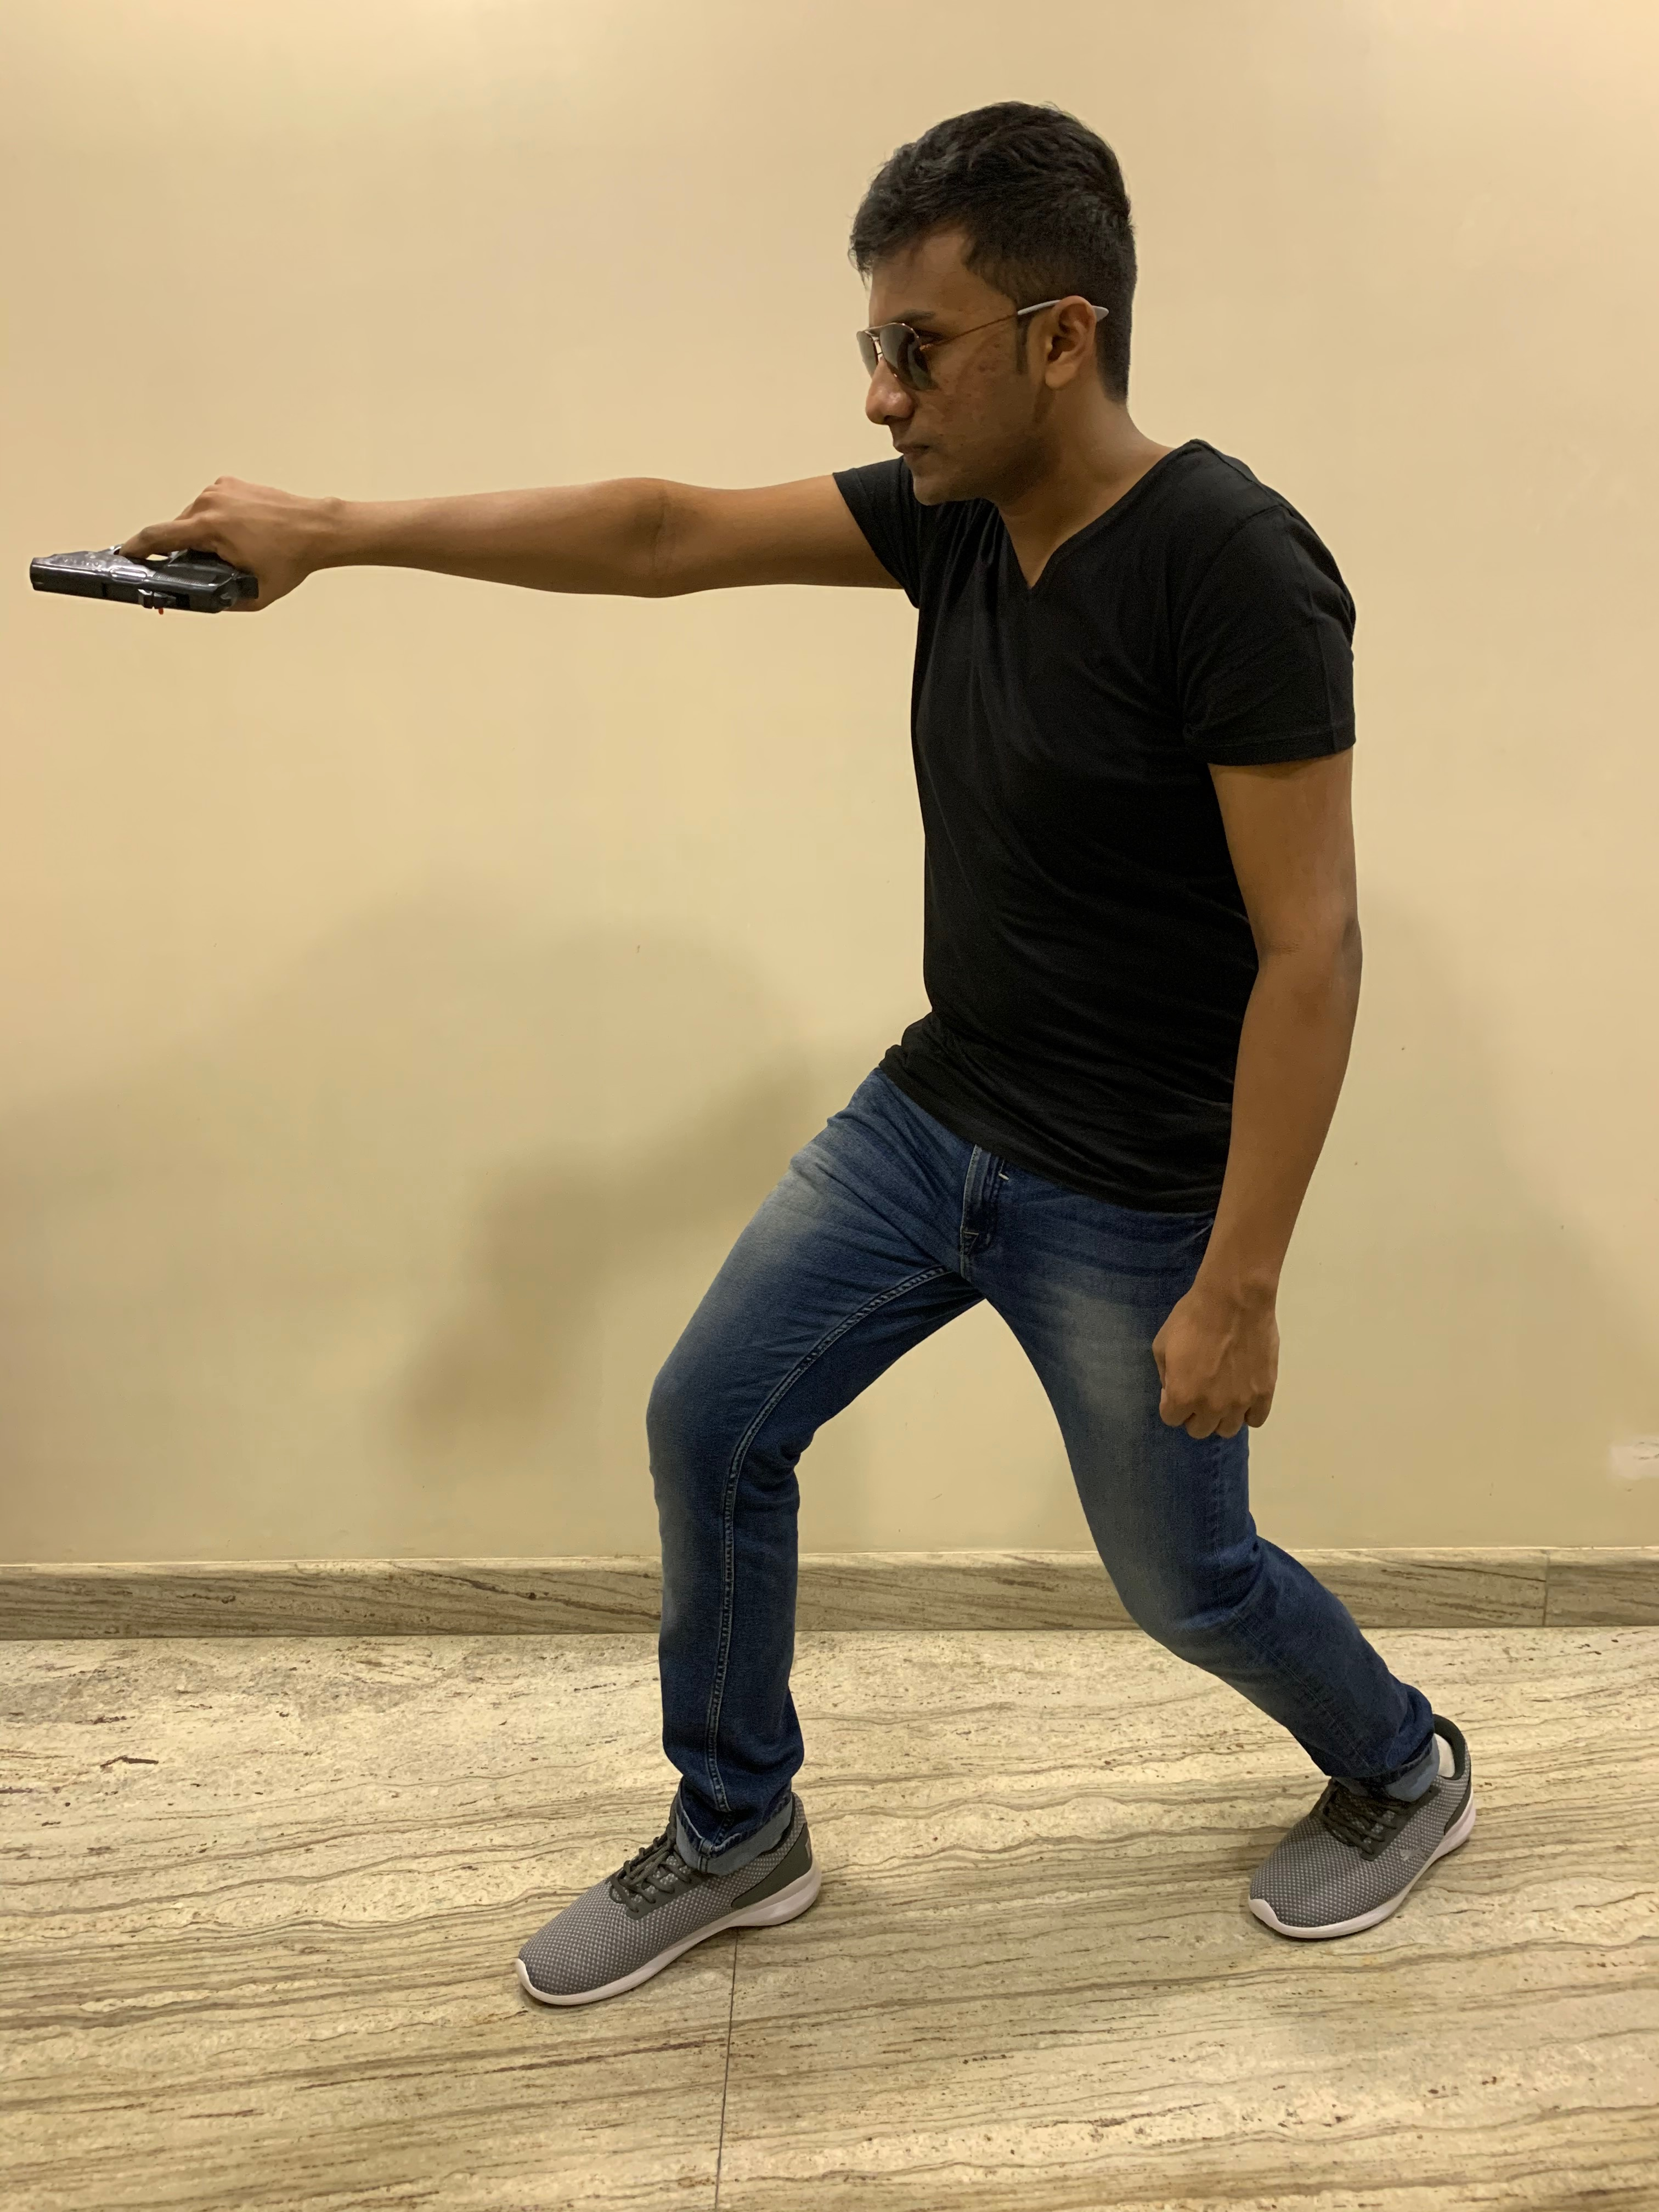gun: (26, 543, 274, 620)
